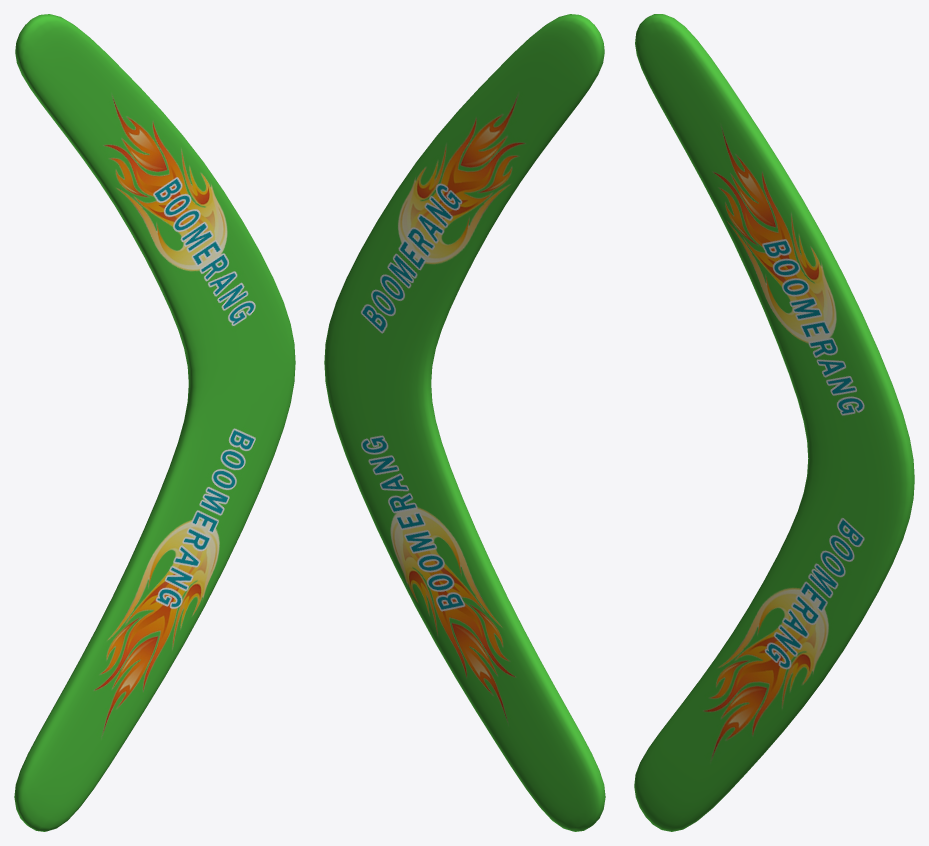
File: 11670_boomerang_v1_l3.obj
3 views of the same model, side by side, from view 1: azimuth 30°, elevation 25°; view 2: azimuth 150°, elevation 25°; view 3: azimuth 330°, elevation 25° (orthographic).
Parts seen in each view (by area): view 1: boomerang; view 2: boomerang; view 3: boomerang.
Boxes of the visible parts, left/top/right/bottom form: boomerang: left=14, top=14, right=295, bottom=831; boomerang: left=324, top=14, right=605, bottom=831; boomerang: left=634, top=14, right=914, bottom=831.
Size of the model in its own units: 10.57 by 29.66 by 0.7.
1 material, 1 textured.
